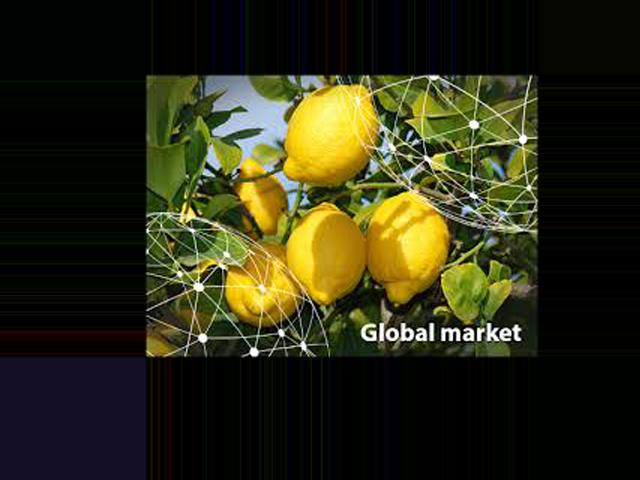lemon: (279, 76, 378, 190)
